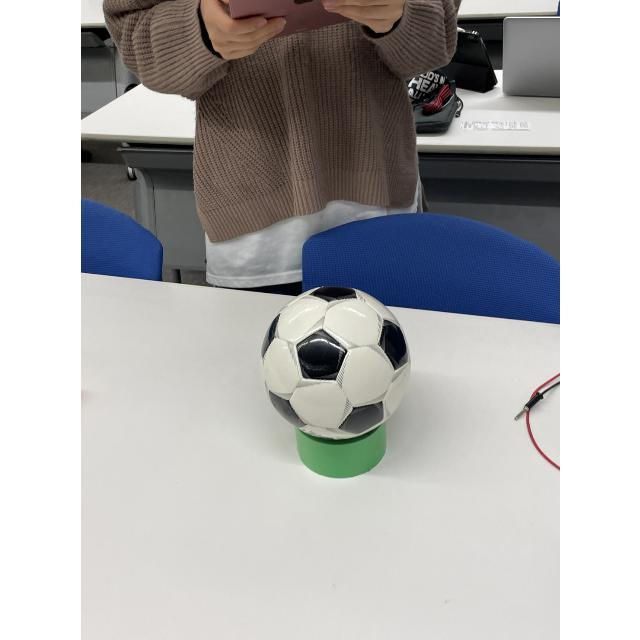ball: (260, 284, 414, 440)
